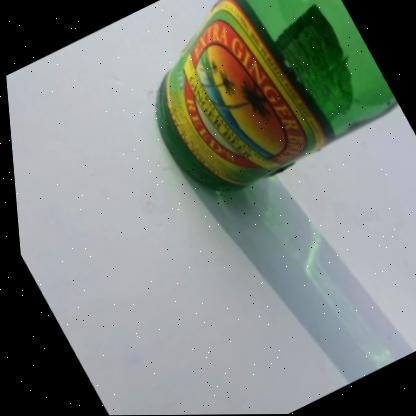Glass: (154, 0, 396, 193)
